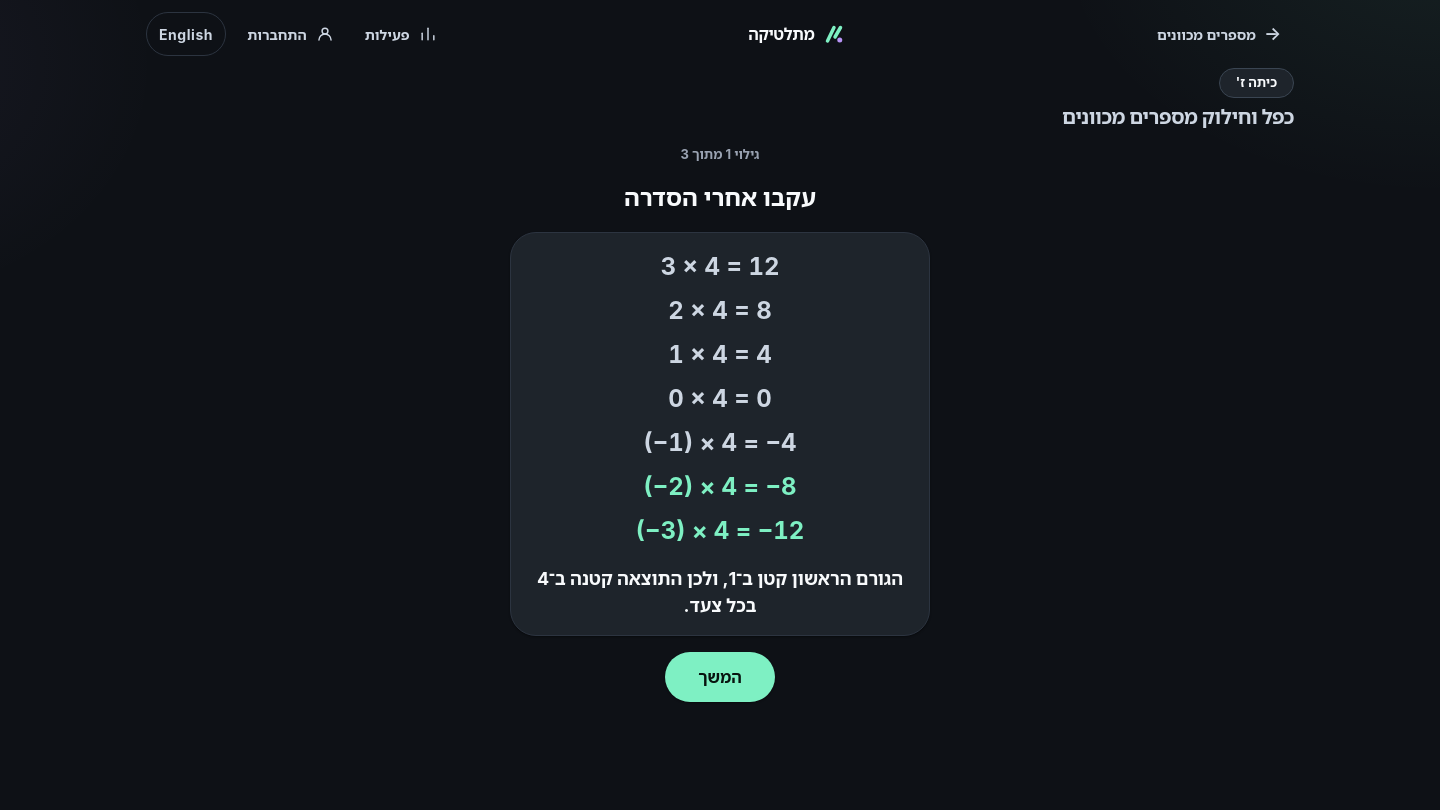
Test: Multiplying & Dividing Signed Numbers — discovery progression › derives negative times negative from a vertical continuation
Click the button "המשך" at (720, 677), box top-left (665, 652), bottom-right (775, 702)
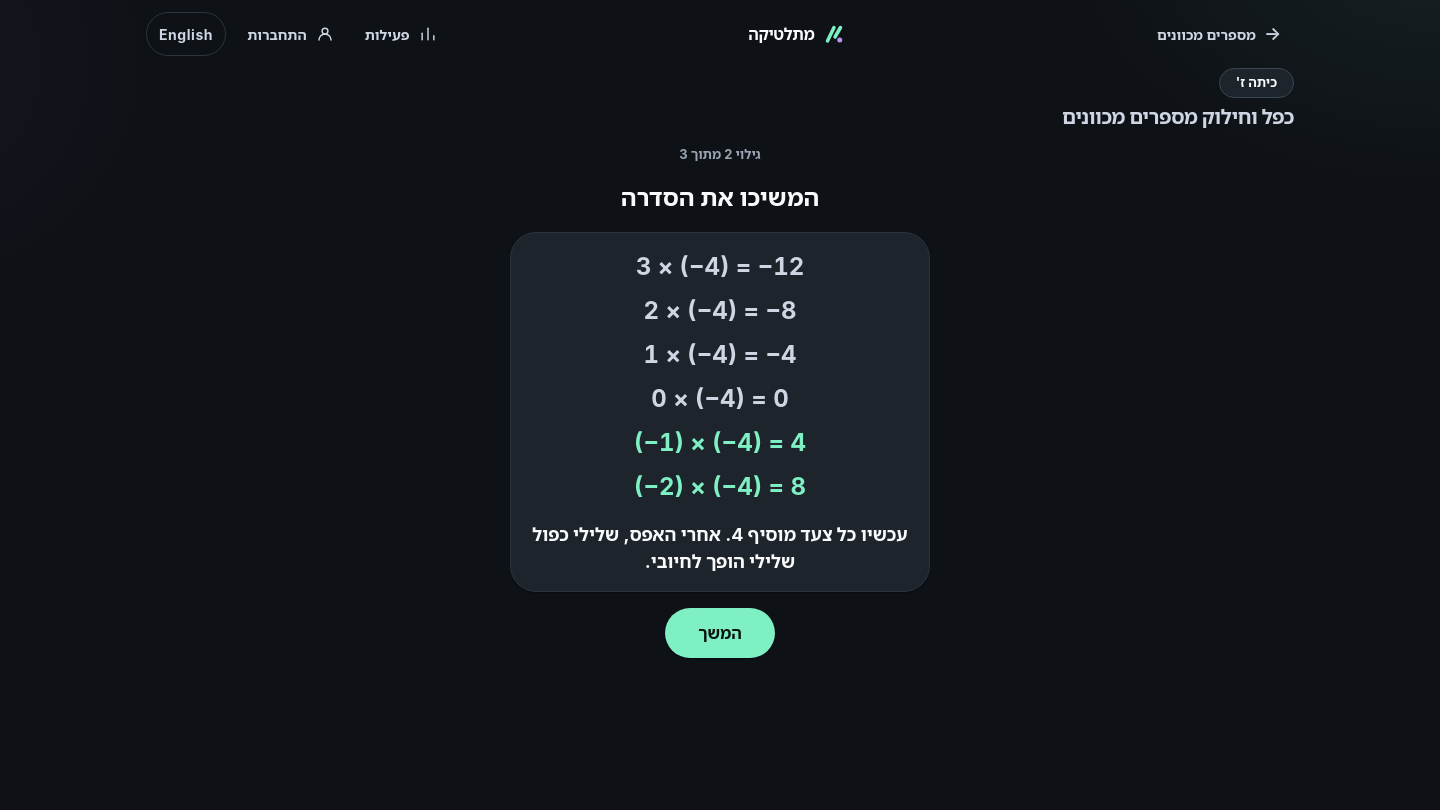
Result: the text "3 × (−4) = −12" is shown at top-left (636, 252), bottom-right (804, 281)
Result: the text "0 × (−4) = 0" is shown at top-left (651, 384), bottom-right (789, 413)
Result: the text "(−2) × (−4) = 8" is shown at top-left (634, 472), bottom-right (806, 501)
